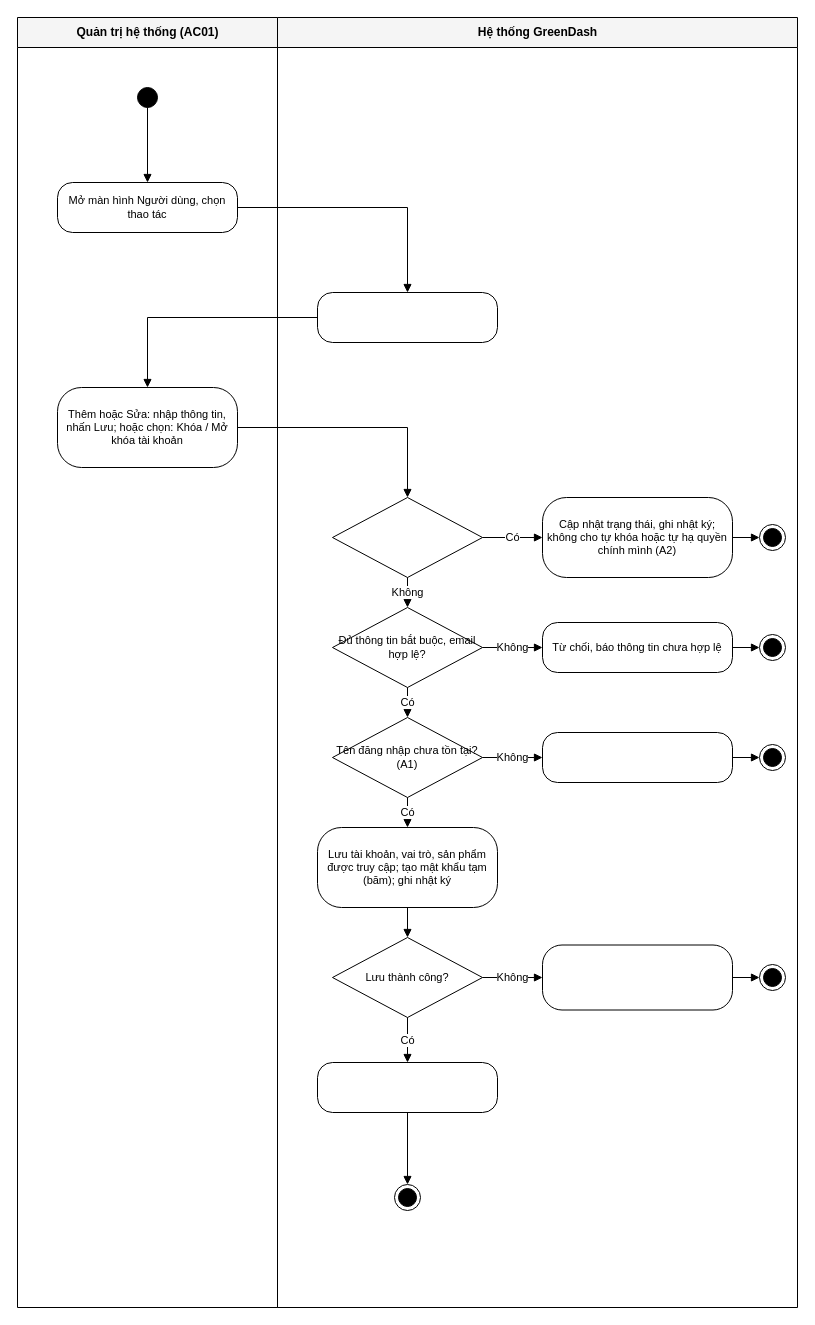
Image size: 815x1325. Some labels were removed from this diagram. The shapes that lost their labels are listed below. From the top down, each one's centre as x and y in pixels, then its label:
[407,317]: Hiển thị danh sách và biểu mẫu
[407,537]: Thao tác là: Khóa / Mở khóa tài khoản?
[637,757]: Báo: Tên đăng nhập đã tồn tại
[637,977]: Rollback, giữ nguyên dữ liệu đã nhập trên biểu mẫu (E1)
[407,1087]: Thông báo thành công, cập nhật danh sách
